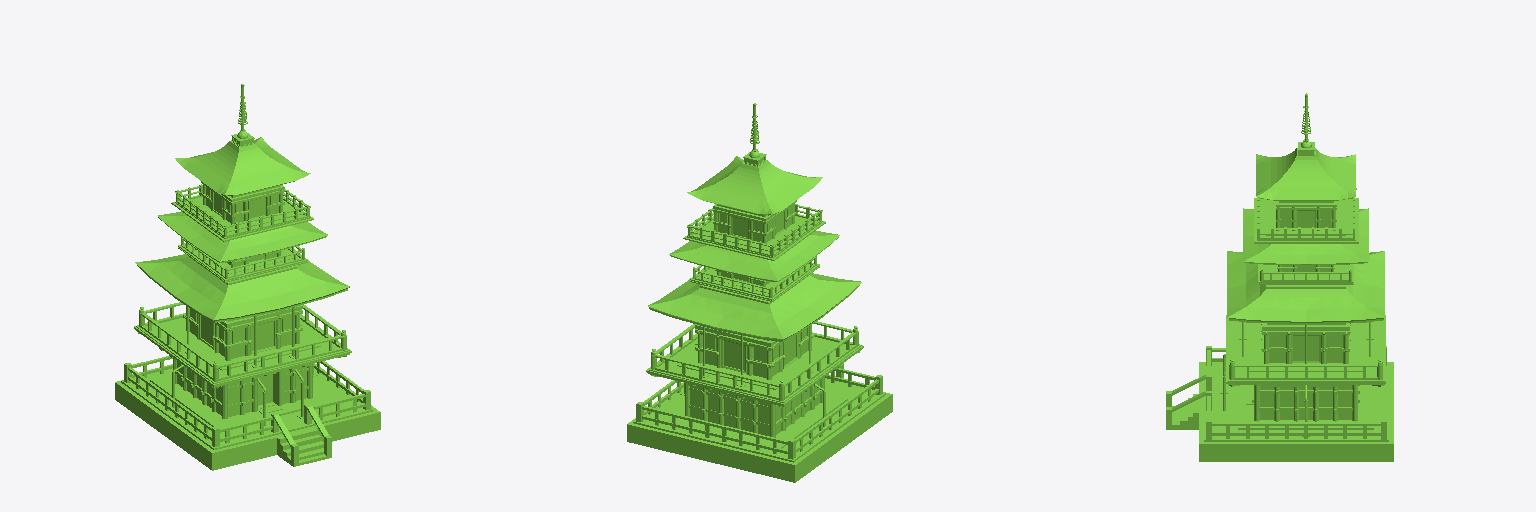
Rendered from Japanese_Temple1.obj.
3 renders of one model, left to right at view 1: azimuth 30°, elevation 25°; view 2: azimuth 150°, elevation 25°; view 3: azimuth 270°, elevation 25°, orthographic.
Visible parts, largest first — view 1: Japanese_Shrine_Cylinder_030; view 2: Japanese_Shrine_Cylinder_030; view 3: Japanese_Shrine_Cylinder_030.
Boxes of the visible parts, box(x1,y1,x2,y2) form: Japanese_Shrine_Cylinder_030: box(115, 84, 380, 470); Japanese_Shrine_Cylinder_030: box(627, 103, 892, 482); Japanese_Shrine_Cylinder_030: box(1166, 93, 1393, 461).
Bounding box in the file's own units: 20 × 37.38 × 23.4.